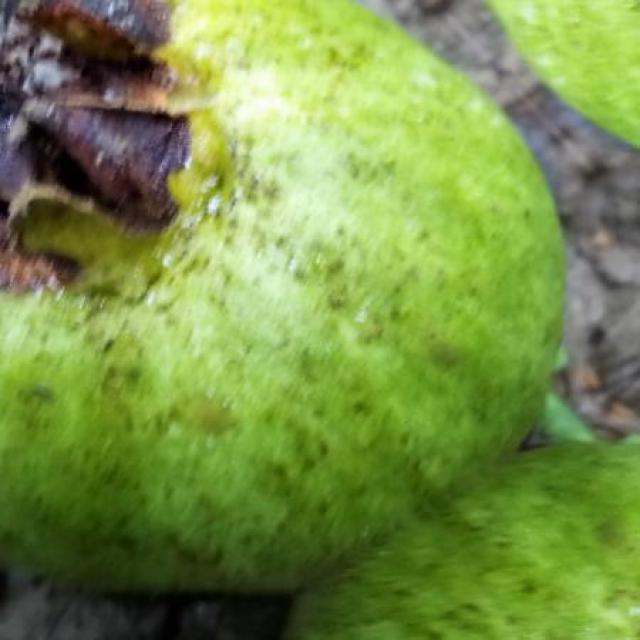Styler and Root: (288, 442, 640, 640)
